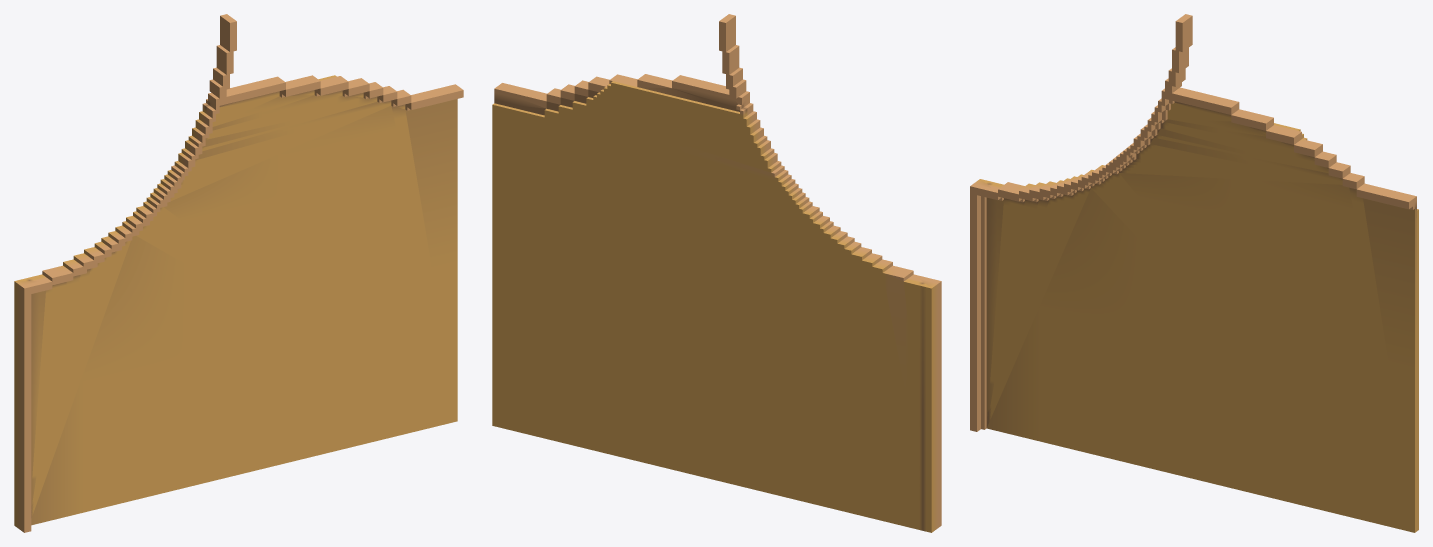
File: Top Board Left.fbx
The picture shows the model from 3 angles, left to right: view 1: azimuth 30°, elevation 25°; view 2: azimuth 150°, elevation 25°; view 3: azimuth 330°, elevation 25°; orthographic projection.
Visible parts, largest first — view 1: Top_Board_Left.Merged; view 2: Top_Board_Left.Merged; view 3: Top_Board_Left.Merged.
Part boxes in pixels (x1=…): Top_Board_Left.Merged: x1=14, y1=14, x2=463, y2=532; Top_Board_Left.Merged: x1=492, y1=14, x2=941, y2=532; Top_Board_Left.Merged: x1=970, y1=14, x2=1418, y2=532.
Bounding box in the file's own units: 25200 × 25200 × 1000.
